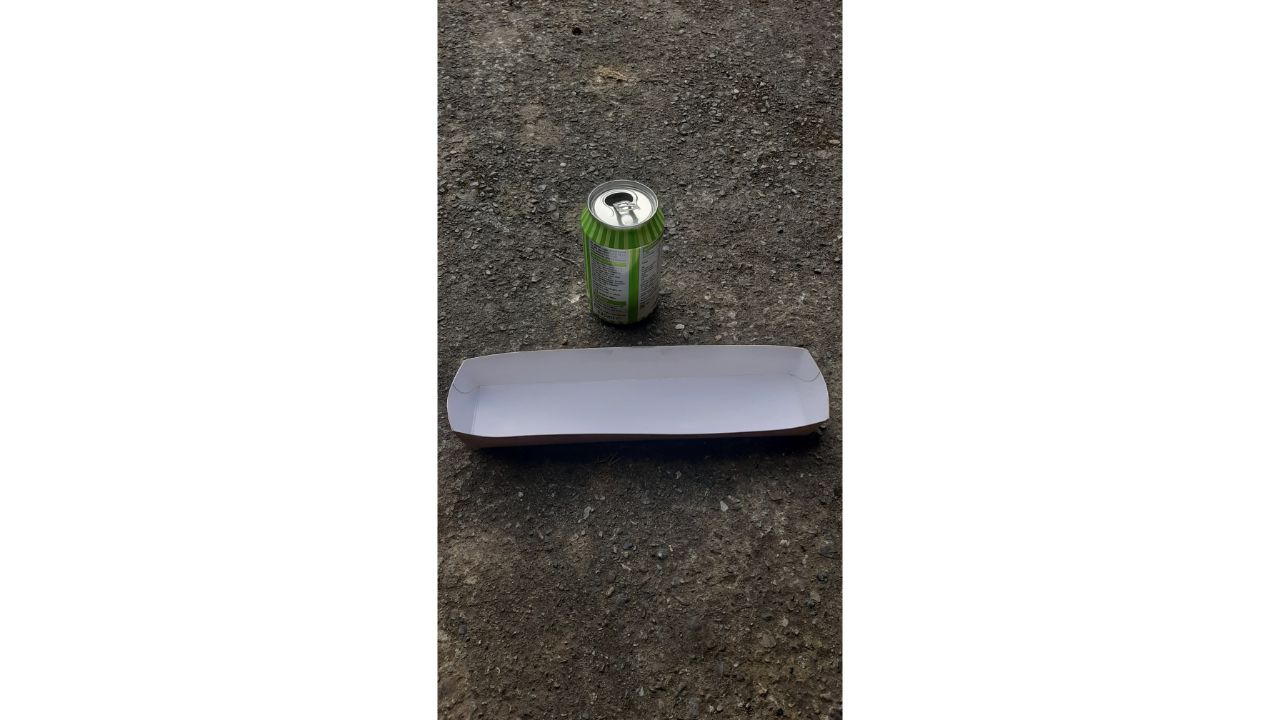Can: (574, 167, 676, 331)
